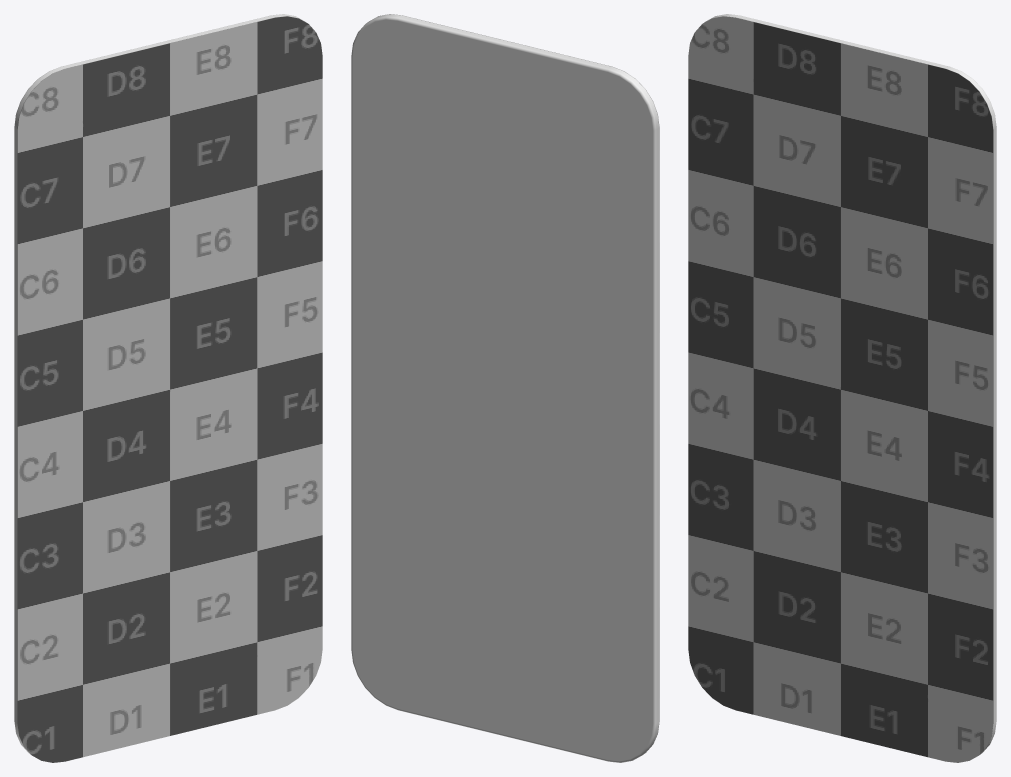
Rendered from iphone13.glb.
3 renders of one model, left to right at view 1: azimuth 30°, elevation 25°; view 2: azimuth 150°, elevation 25°; view 3: azimuth 330°, elevation 25°, orthographic.
Parts seen in each view (by area): view 1: Glass, Body; view 2: Body, Glass; view 3: Glass, Body.
Part boxes in pixels (left/top/right/bottom): Glass: left=17, top=16, right=322, bottom=762; Body: left=14, top=14, right=306, bottom=754; Body: left=351, top=14, right=659, bottom=762; Glass: left=378, top=14, right=659, bottom=752; Glass: left=688, top=16, right=993, bottom=762; Body: left=704, top=14, right=996, bottom=754.
Size of the model in its own units: 0.0644 by 0.1398 by 0.0016.
2 materials, 1 textured.
